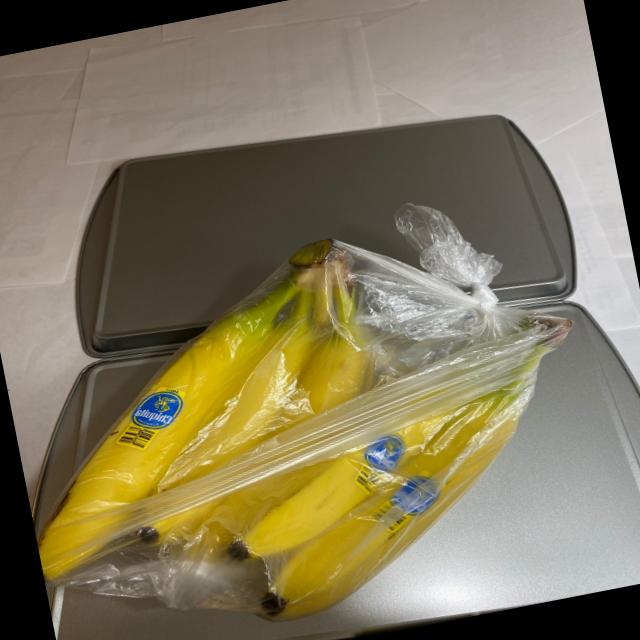banana: (0, 189, 619, 640)
